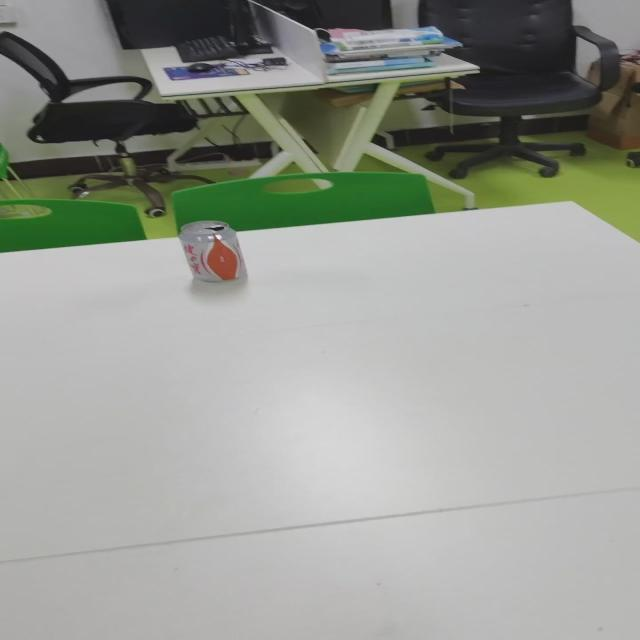can: (177, 217, 247, 286)
